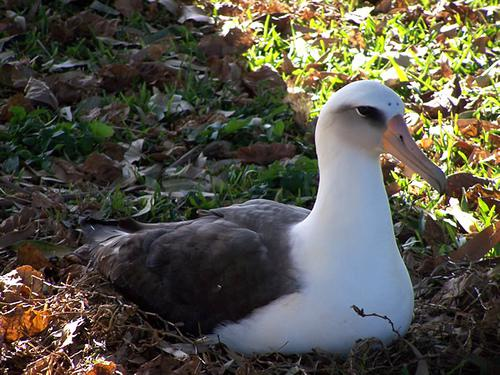002.Laysan_Albatross: (83, 78, 454, 355)
